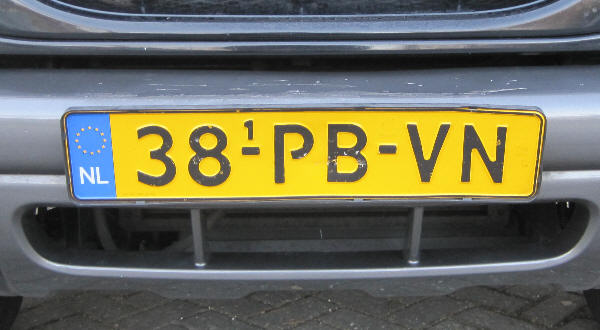license_plate: (61, 110, 546, 200)
